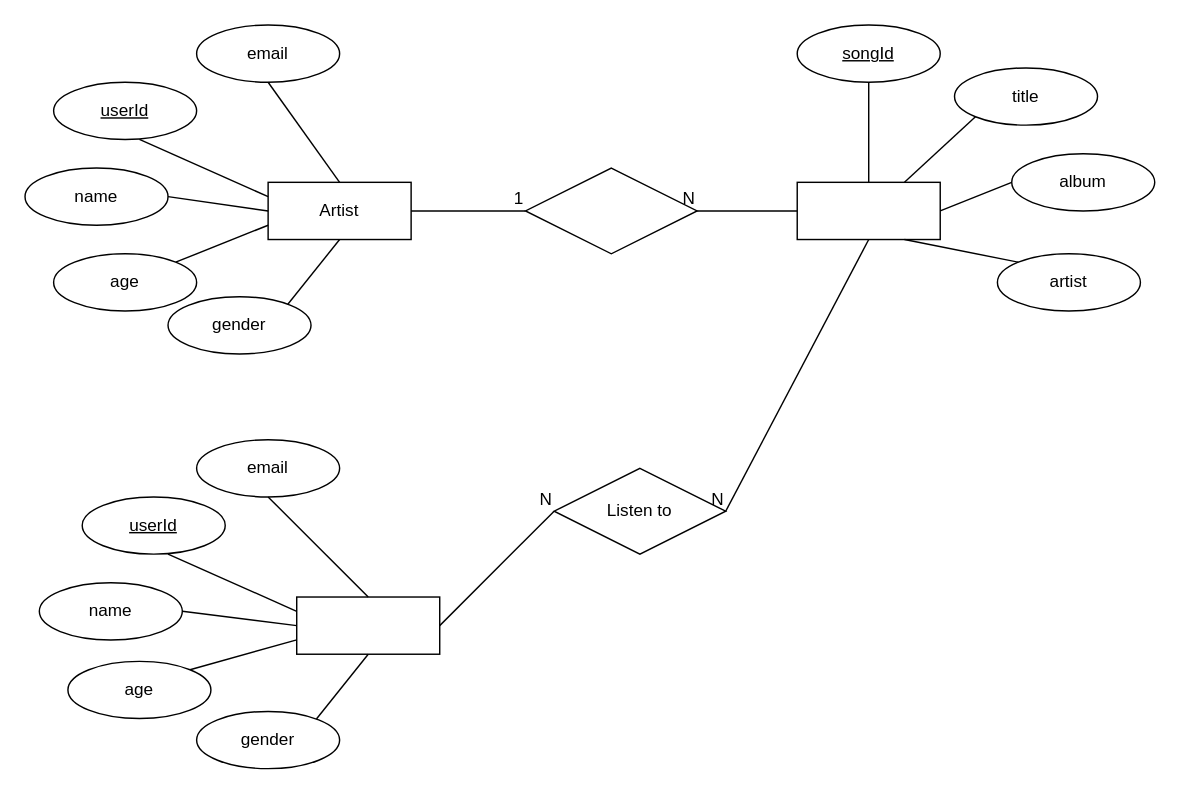
The diagram is 1180 pixels wide and 794 high, and some of its shapes have lost their labels. The box of each missing label's shape, as (x1, y1, x2, y2) in pixels:
Consumer: (295, 596, 440, 654)
Song: (796, 181, 940, 240)
Uploads: (524, 167, 697, 254)
